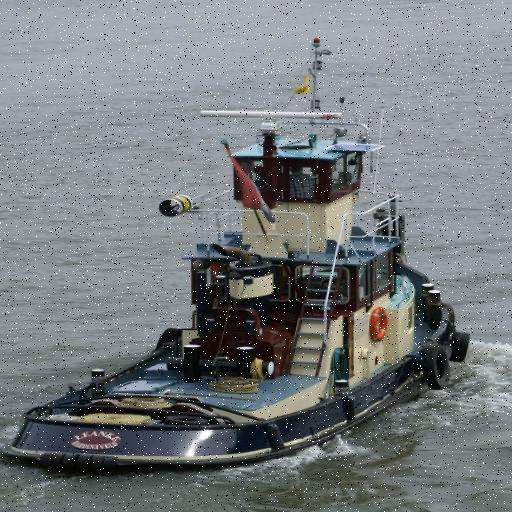tugboat: (1, 104, 476, 483)
